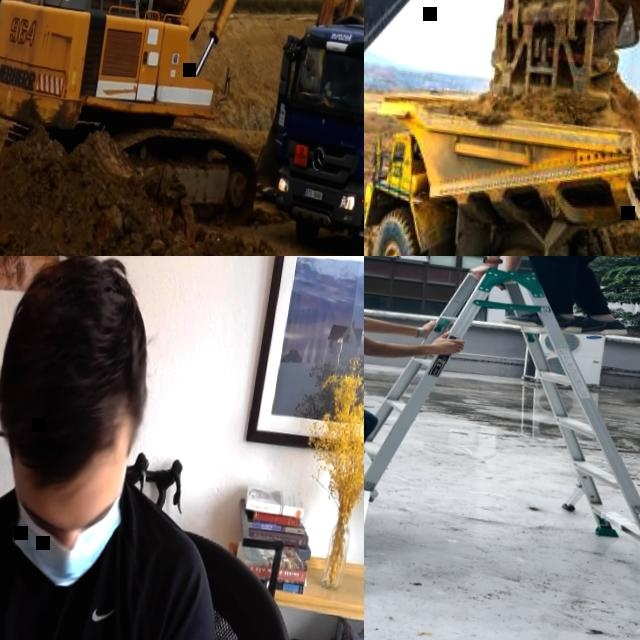Mask: (3, 488, 125, 594)
NO-Hardhat: (0, 256, 165, 487)
NO-Safety Vest: (0, 472, 188, 640)
Person: (0, 256, 285, 640), (364, 256, 473, 569), (379, 256, 640, 347)
machinery: (0, 0, 364, 244), (364, 0, 640, 256), (364, 75, 640, 256), (253, 0, 364, 256), (0, 0, 115, 103)
